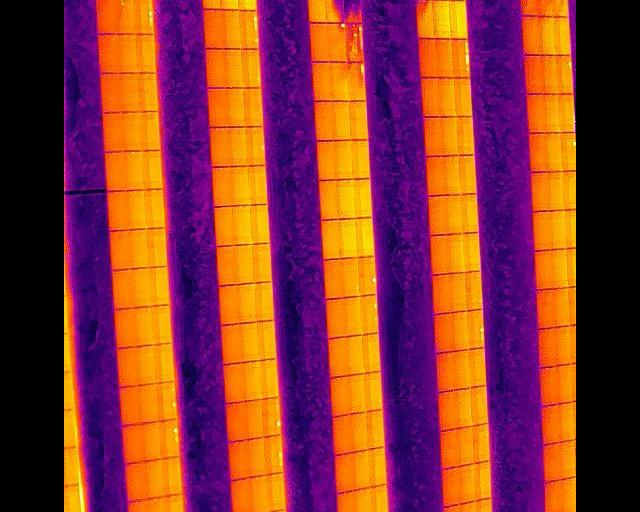Cell: (329, 22, 348, 61), (262, 397, 281, 436), (358, 254, 376, 295), (246, 126, 264, 165), (465, 270, 482, 309), (557, 55, 574, 93), (342, 257, 359, 295), (561, 131, 576, 170), (64, 484, 80, 512), (130, 498, 150, 512)
Cell-Multi: (348, 61, 367, 101), (160, 418, 178, 458), (158, 380, 176, 420), (134, 0, 155, 33), (265, 436, 283, 474), (346, 21, 363, 61), (361, 295, 378, 334), (240, 9, 257, 47), (453, 38, 469, 77), (117, 0, 134, 33)
No-Anomaly: (218, 284, 240, 324), (113, 269, 136, 307), (221, 322, 242, 363), (437, 389, 458, 430), (120, 385, 142, 424), (117, 307, 139, 346), (224, 362, 245, 402), (217, 244, 238, 284), (113, 229, 134, 269), (98, 33, 119, 73), (226, 400, 246, 441), (209, 127, 230, 166), (542, 403, 563, 442), (119, 346, 140, 385), (108, 190, 129, 229), (101, 73, 122, 112), (524, 53, 544, 93), (326, 296, 345, 338), (318, 179, 338, 218), (540, 327, 560, 366), (206, 48, 226, 87), (136, 33, 156, 72), (103, 111, 123, 150), (231, 438, 250, 479), (440, 427, 458, 470), (324, 258, 344, 296), (322, 218, 341, 258), (315, 100, 334, 140), (250, 203, 269, 243), (215, 205, 234, 245), (352, 138, 371, 178), (155, 343, 174, 383), (142, 150, 162, 188), (140, 111, 160, 149), (106, 151, 126, 189), (433, 272, 451, 314), (544, 443, 565, 479), (309, 22, 328, 61), (209, 88, 228, 127), (356, 216, 375, 255), (205, 8, 224, 47), (145, 188, 164, 227), (128, 460, 147, 499), (541, 366, 561, 403), (434, 315, 454, 352), (317, 139, 335, 180), (213, 165, 231, 206), (441, 466, 459, 507), (437, 350, 455, 391), (253, 283, 272, 321), (336, 452, 355, 490), (125, 424, 144, 462), (334, 413, 352, 453), (313, 61, 331, 101), (537, 288, 555, 328), (260, 358, 278, 398), (232, 165, 250, 205), (431, 233, 448, 275), (545, 478, 566, 512), (257, 320, 275, 359), (437, 77, 455, 116), (553, 15, 571, 54), (364, 370, 382, 409), (339, 218, 357, 257), (253, 242, 270, 283), (248, 436, 265, 477), (428, 153, 445, 194), (154, 303, 171, 344), (149, 226, 166, 267), (96, 0, 117, 33), (333, 376, 351, 414), (252, 474, 270, 512), (367, 449, 386, 485), (354, 178, 372, 216), (138, 73, 156, 111), (124, 150, 142, 188), (331, 61, 348, 101), (249, 164, 266, 204), (244, 87, 261, 127), (242, 47, 259, 87), (549, 209, 566, 249), (345, 295, 362, 335), (528, 93, 545, 133), (142, 383, 159, 423), (328, 337, 346, 374), (363, 333, 381, 370), (234, 477, 253, 512), (335, 139, 352, 178), (334, 100, 351, 139), (535, 249, 552, 288), (245, 399, 262, 438), (533, 210, 550, 249), (426, 116, 443, 155), (547, 171, 564, 210), (366, 409, 383, 448), (350, 100, 367, 139), (164, 458, 181, 497), (151, 265, 168, 304), (147, 459, 164, 498), (119, 33, 136, 72), (459, 153, 475, 194), (268, 471, 284, 512), (552, 248, 568, 289), (144, 420, 160, 461), (471, 385, 487, 426), (469, 347, 485, 388), (432, 0, 449, 38), (553, 288, 570, 326), (419, 39, 436, 77), (123, 111, 140, 149), (244, 359, 260, 399), (429, 195, 445, 235), (531, 170, 547, 210), (450, 271, 465, 313), (461, 193, 477, 232), (538, 15, 554, 54), (228, 88, 244, 127), (339, 178, 355, 217), (529, 132, 545, 171), (122, 73, 138, 112), (560, 364, 576, 403), (459, 462, 474, 503), (242, 320, 257, 361), (130, 188, 145, 229), (449, 0, 465, 38), (346, 334, 362, 372), (560, 326, 576, 364), (559, 93, 575, 131), (473, 461, 489, 499), (464, 231, 479, 271), (235, 204, 250, 244), (350, 372, 365, 412), (139, 306, 154, 346), (237, 244, 252, 283), (231, 126, 246, 165), (227, 48, 242, 87), (454, 77, 469, 116), (452, 311, 467, 350), (446, 194, 461, 233), (437, 38, 452, 77), (523, 15, 538, 54), (473, 423, 488, 462), (224, 9, 239, 47), (547, 132, 562, 170), (460, 426, 474, 466), (449, 233, 463, 273), (445, 154, 459, 194), (546, 93, 560, 133), (140, 345, 154, 385), (423, 77, 437, 116), (134, 229, 148, 268), (457, 116, 471, 154), (443, 116, 457, 154), (352, 412, 366, 450), (136, 268, 150, 306), (241, 283, 254, 323), (355, 450, 369, 487), (458, 388, 471, 427), (456, 350, 469, 389), (563, 402, 576, 440), (544, 54, 556, 94), (371, 484, 388, 512), (337, 490, 356, 512), (356, 487, 372, 512), (309, 0, 325, 21), (167, 493, 184, 512), (149, 496, 168, 512), (474, 498, 492, 512), (459, 501, 476, 512), (238, 0, 256, 9), (219, 0, 237, 9), (202, 0, 220, 9), (442, 504, 459, 512)
Shadowing: (416, 0, 432, 38), (326, 0, 344, 21), (345, 0, 361, 22), (518, 0, 536, 15), (552, 0, 568, 16), (536, 0, 551, 16)
Unclassified: (467, 309, 485, 348)
